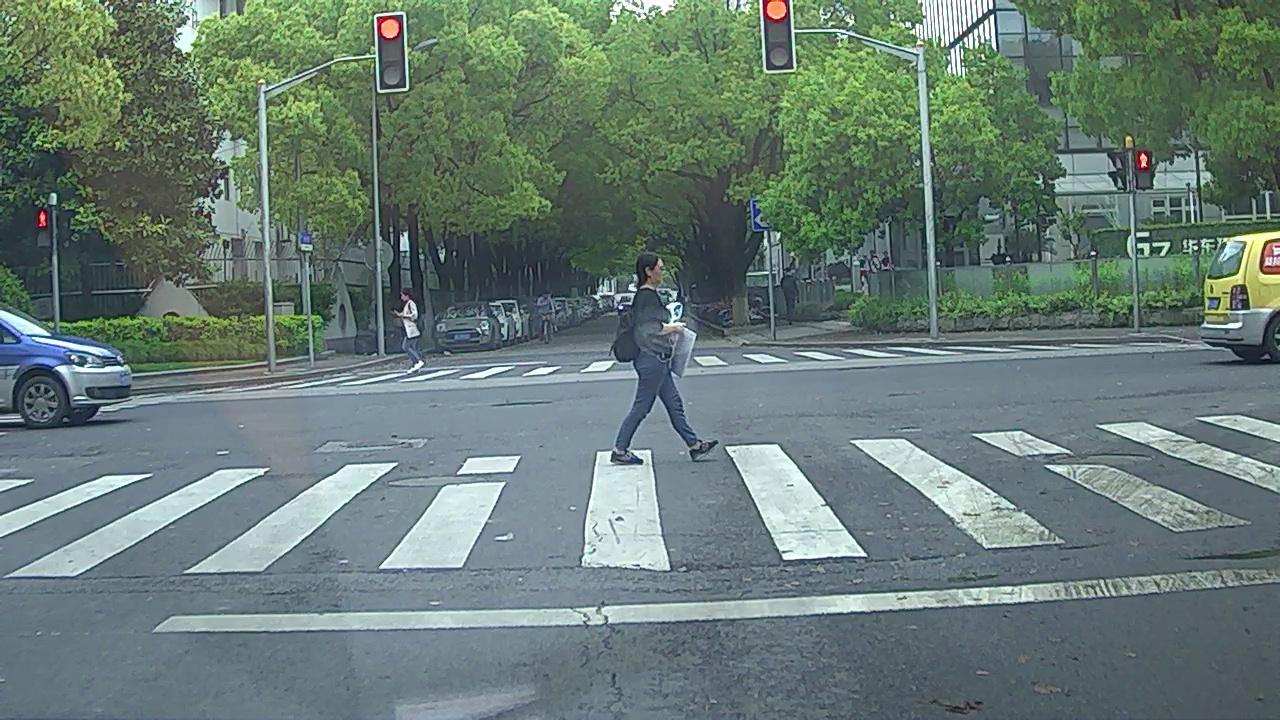traffic_light: (376, 16, 410, 88), (763, 1, 795, 70)
